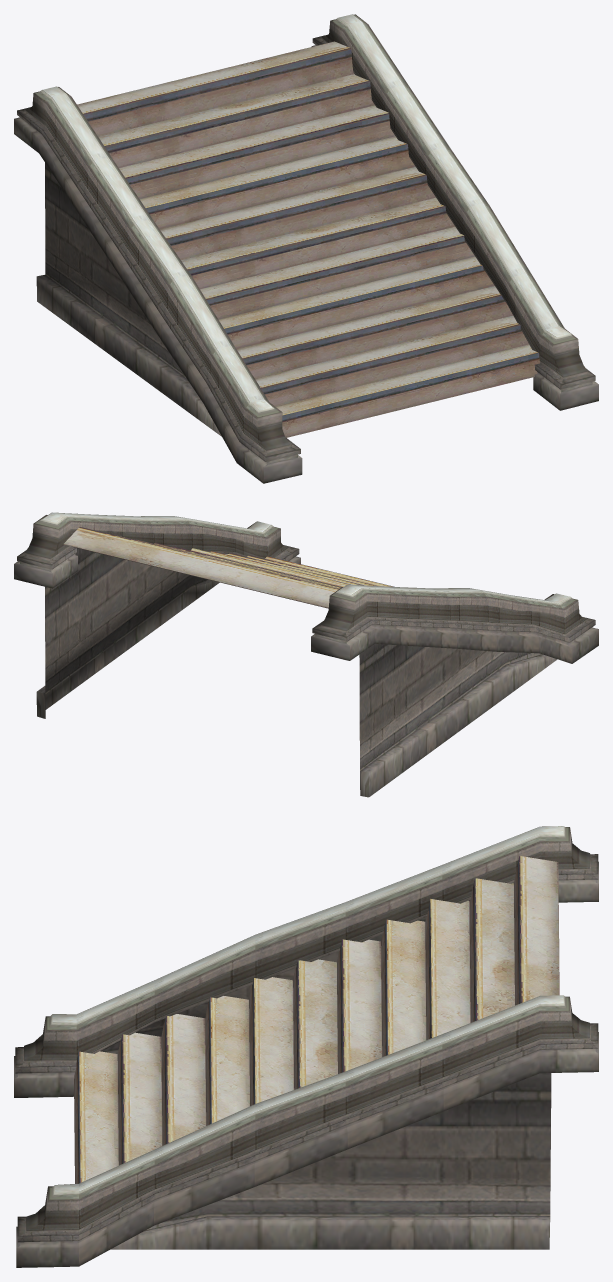
Rendered from S_Build_City113.FBX.
3 renders of one model, top to bottom at view 1: azimuth 30°, elevation 25°; view 2: azimuth 150°, elevation 25°; view 3: azimuth 270°, elevation 25°, orthographic. The views are drawn at different scales.
Visible parts, largest first — view 1: S_Build_City113; view 2: S_Build_City113; view 3: S_Build_City113.
Boxes of the visible parts, x1=… form: S_Build_City113: x1=14, y1=14, x2=598, y2=483; S_Build_City113: x1=14, y1=512, x2=598, y2=797; S_Build_City113: x1=14, y1=826, x2=598, y2=1267.
Bounding box in the file's own units: 1581 × 986 × 2031.
